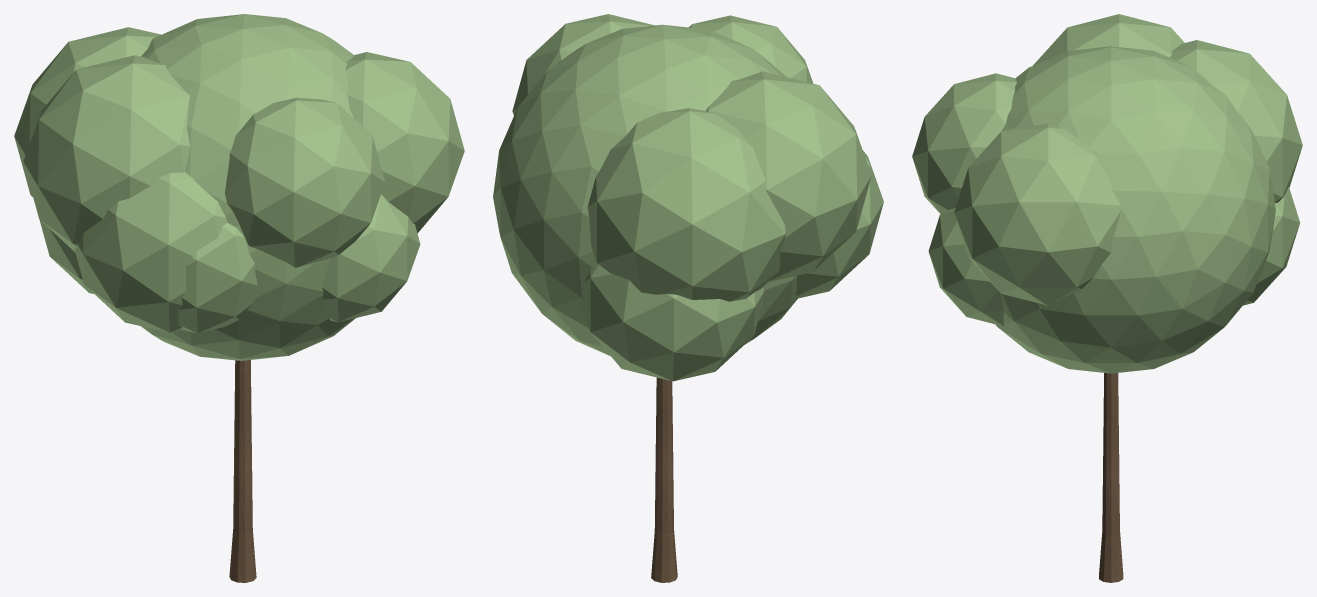
The model's file is tree.glb.
3 views of the same model, side by side, from view 1: azimuth 30°, elevation 25°; view 2: azimuth 150°, elevation 25°; view 3: azimuth 270°, elevation 25° (orthographic). The views are drawn at different scales.
Parts seen in each view (by area): view 1: tree_leaf, tree_bark; view 2: tree_leaf, tree_bark; view 3: tree_leaf, tree_bark.
Boxes of the visible parts, x1,y1,x2,y2 form: tree_leaf: (14, 14, 464, 360); tree_bark: (229, 360, 256, 582); tree_leaf: (493, 14, 883, 381); tree_bark: (651, 377, 677, 582); tree_leaf: (912, 14, 1302, 373); tree_bark: (1099, 373, 1123, 582).
Bounding box in the file's own units: 5.71 × 7.96 × 5.45.
Materials: 2 (1 with a texture image).
